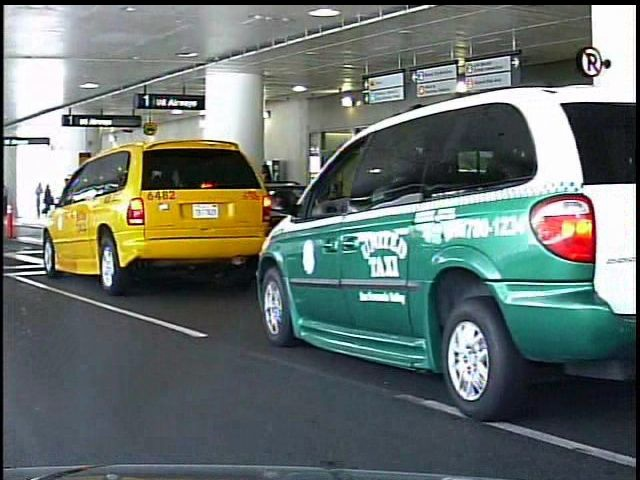person: (45, 179, 59, 219), (36, 180, 47, 220), (1, 183, 13, 218)
